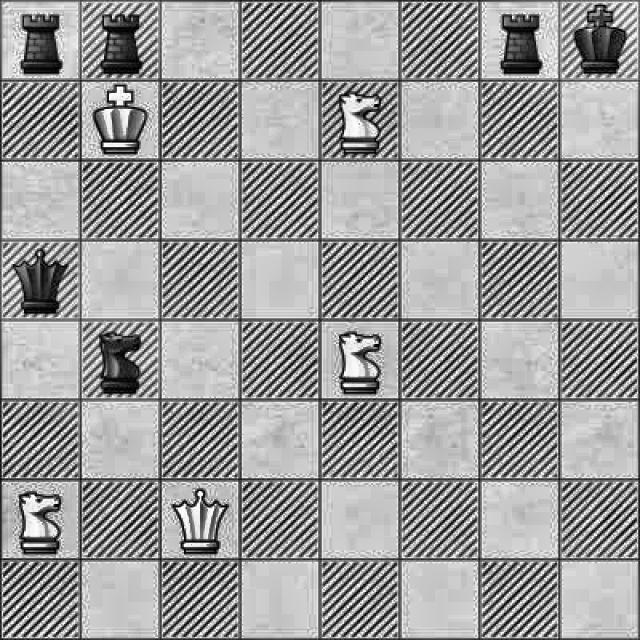Black Knight: (89, 324, 152, 394)
black king: (574, 5, 627, 79)
black queen: (6, 242, 74, 316)
black rook: (7, 2, 74, 78), (490, 9, 551, 82), (91, 2, 149, 77)
white king: (85, 84, 155, 159)
white queen: (168, 485, 228, 557)
whiteknight: (324, 321, 392, 396), (8, 485, 76, 557), (329, 90, 389, 159)
